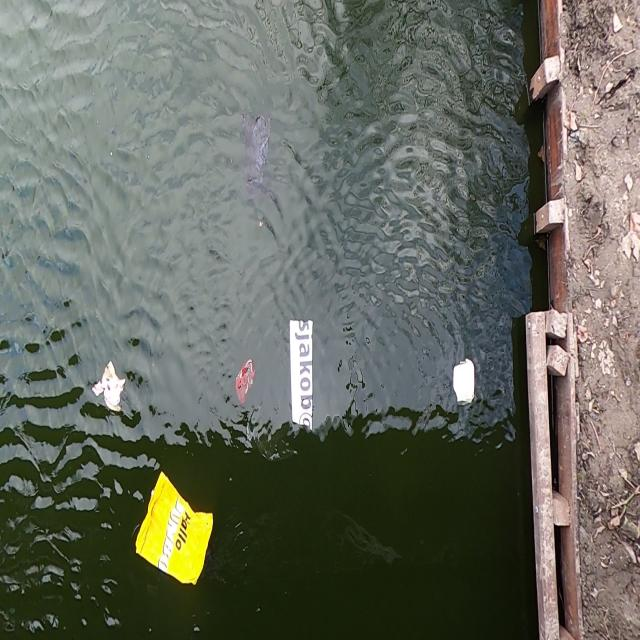Autre plastique: (92, 358, 130, 418), (451, 351, 478, 414)
Sac plastique: (131, 466, 217, 594), (237, 104, 273, 194), (232, 353, 260, 407)
